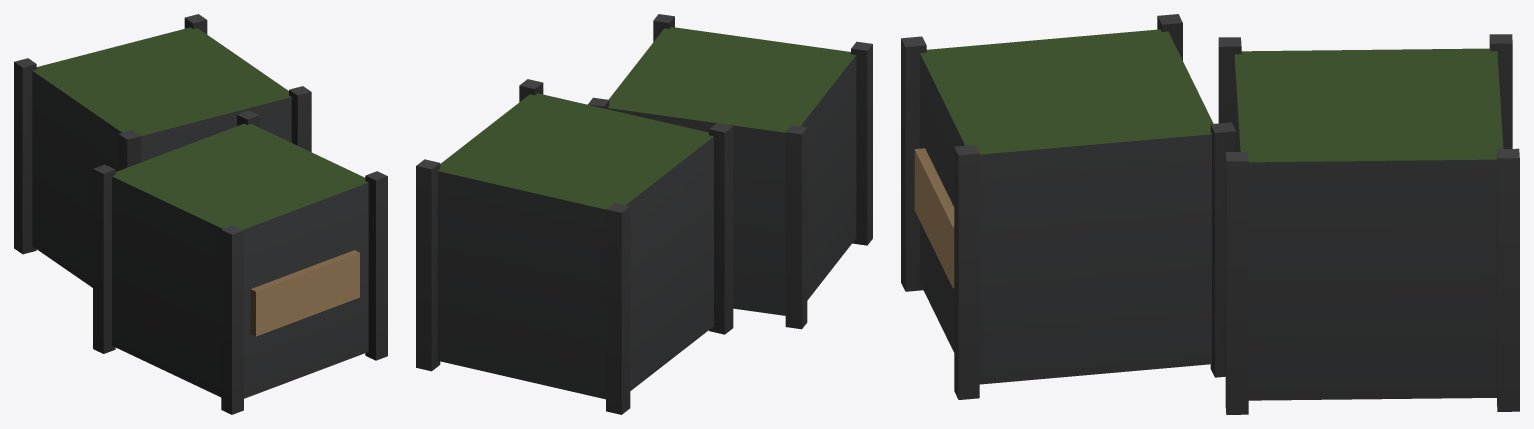
The model's file is obj_cajas.glb.
3 renders of one model, left to right at view 1: azimuth 30°, elevation 25°; view 2: azimuth 150°, elevation 25°; view 3: azimuth 270°, elevation 25°, orthographic. The views are drawn at different scales.
Visible parts, largest first — view 1: propforge-libre-cajas; view 2: propforge-libre-cajas; view 3: propforge-libre-cajas.
Part boxes in pixels (left/top/right/bottom): propforge-libre-cajas: left=14, top=14, right=387, bottom=414; propforge-libre-cajas: left=416, top=14, right=872, bottom=414; propforge-libre-cajas: left=901, top=14, right=1519, bottom=414.
Bounding box in the file's own units: 0.6568 × 0.4964 × 1.1.
